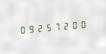five: (44, 20, 52, 34)
nine: (26, 22, 34, 35)
seven: (53, 19, 61, 33)
two: (35, 21, 43, 34), (62, 19, 70, 32)
zero: (17, 23, 25, 36), (71, 18, 79, 31), (80, 17, 88, 30)
